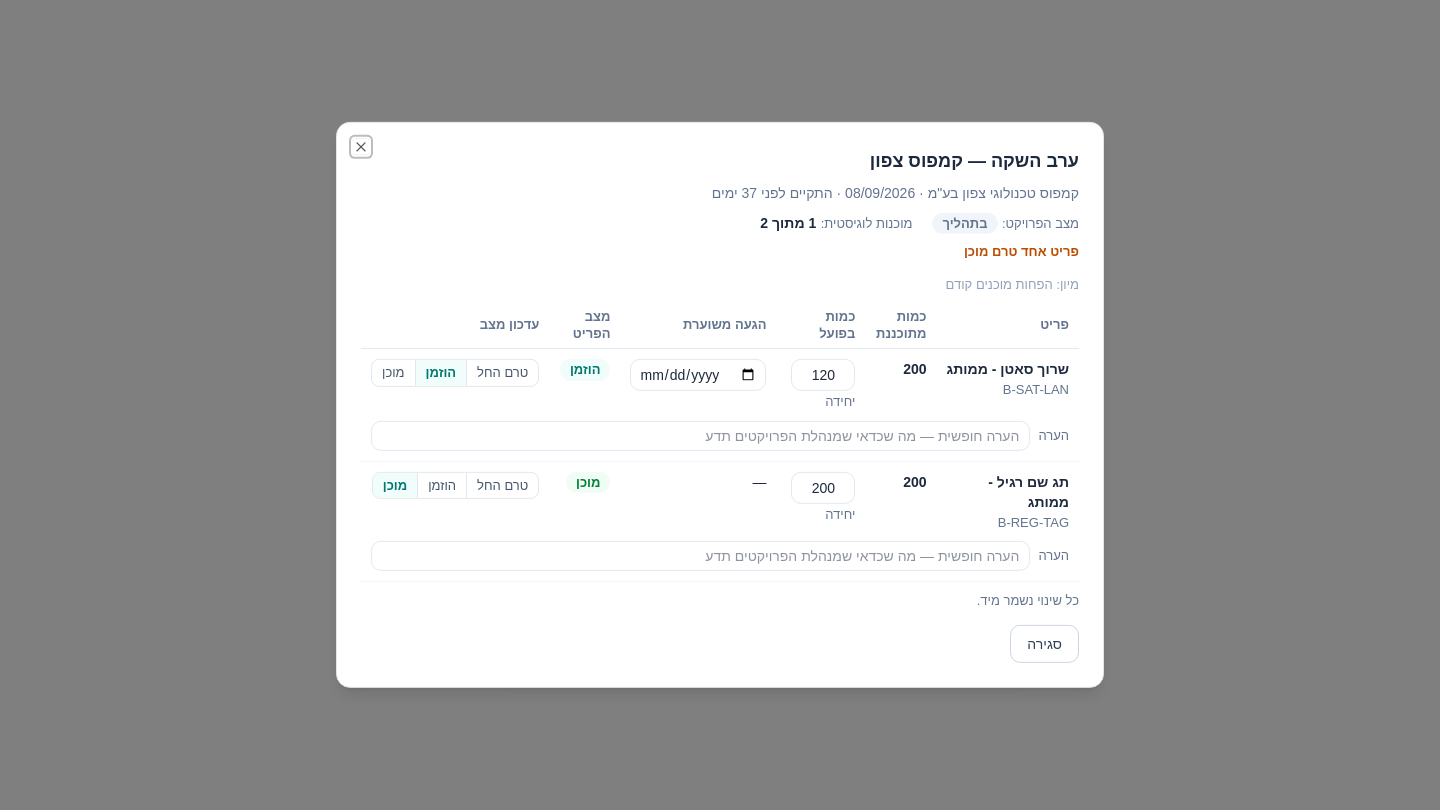
Test: ChecklistDialog — ⑬ באנר ההשלמה › אין חוסר — משפט-החוסר מושמט לגמרי
Expected: the row with test id "checklist-row-B-SAT-LAN-1" is shown, 361,349 -> 1079,420
Click the button with test id "checklist-status-B-SAT-LAN-1-ready".
click(393, 373)  # box 372,360 -> 414,386
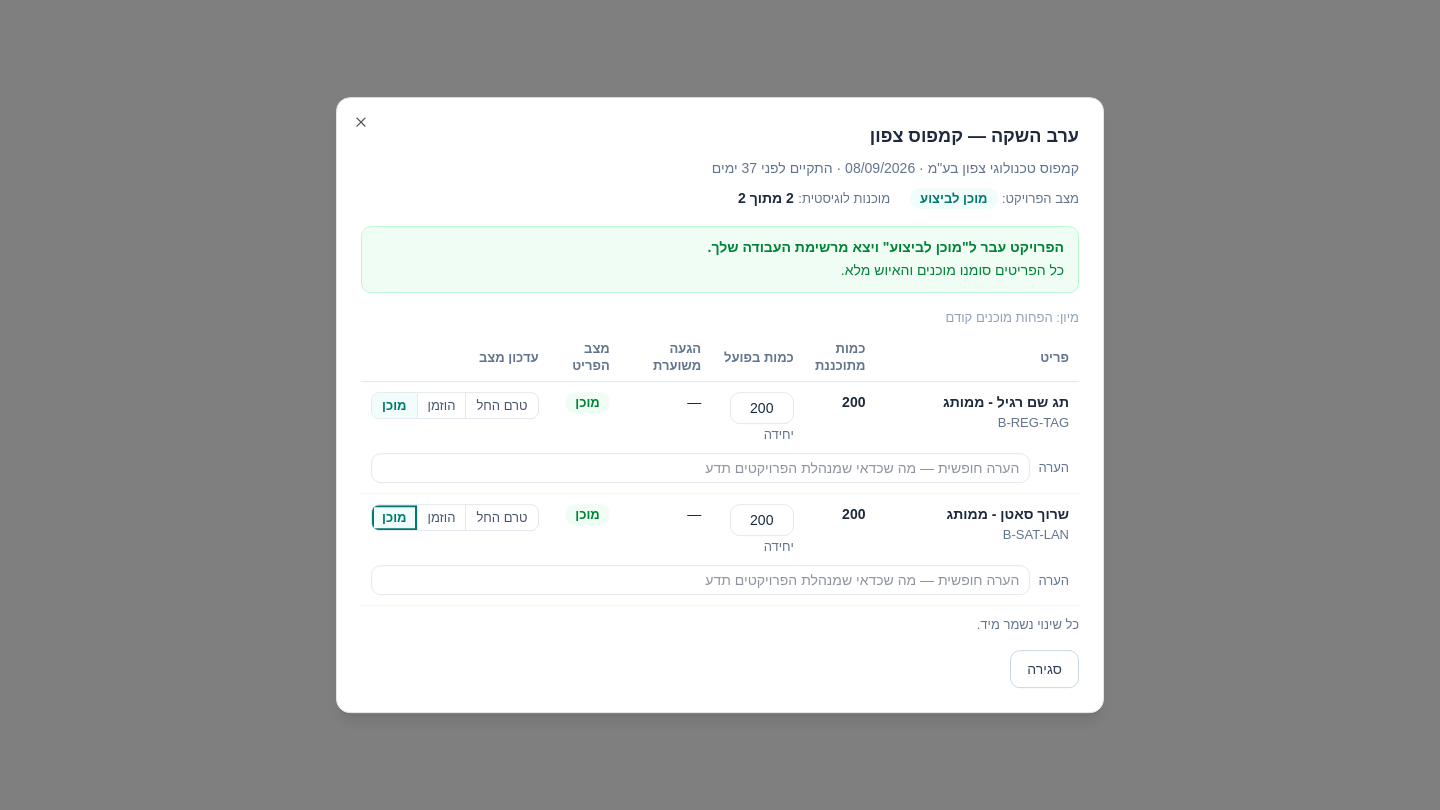
Expected: the message with test id "checklist-banner-complete" is shown, 361,226 -> 1079,293
